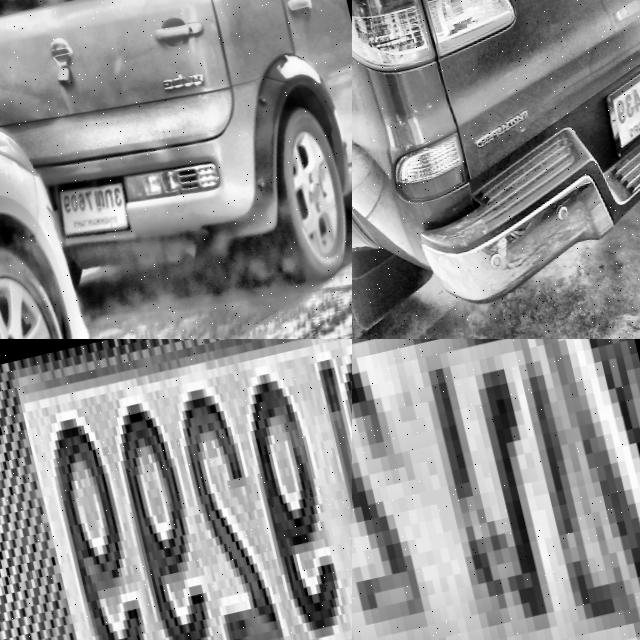license-plate: (0, 339, 352, 640), (352, 339, 640, 640), (49, 171, 133, 247), (593, 45, 640, 162)
